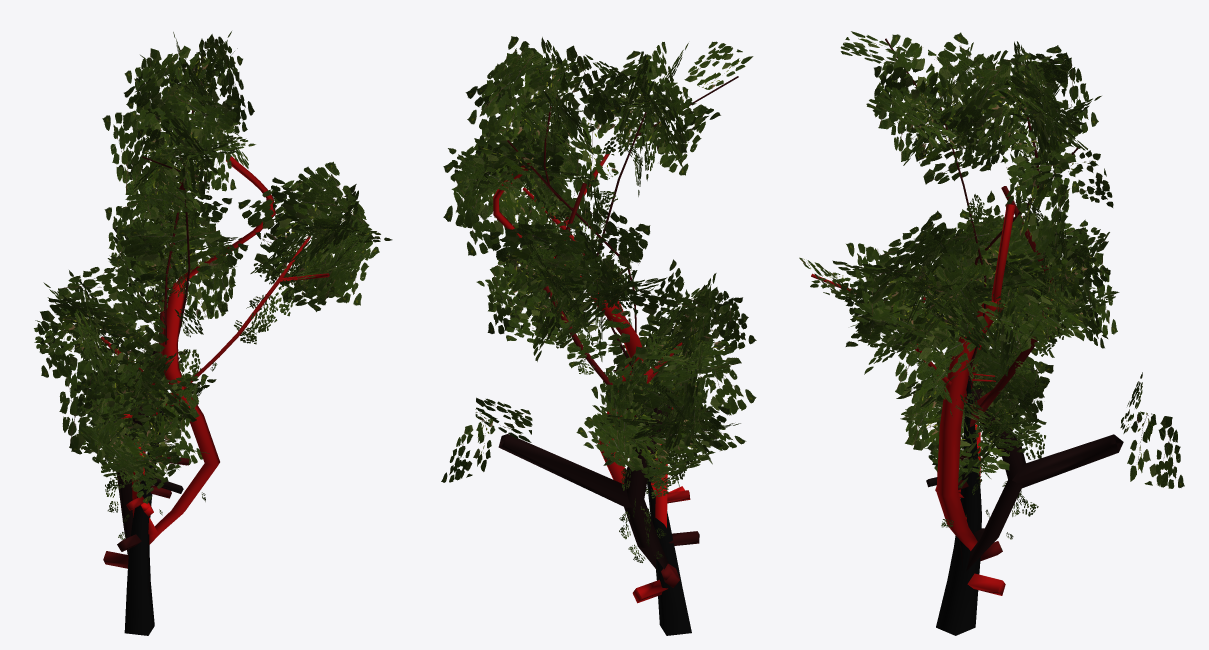
Rendered from Tree_1.fbx.
The picture shows the model from 3 angles, left to right: view 1: azimuth 30°, elevation 25°; view 2: azimuth 150°, elevation 25°; view 3: azimuth 270°, elevation 25°; orthographic projection. The views are drawn at different scales.
Parts seen in each view (by area): view 1: Tree_14; view 2: Tree_14; view 3: Tree_14.
Part boxes in pixels (x1,y1,x2,y2): Tree_14: [34, 31, 392, 635]; Tree_14: [441, 36, 756, 635]; Tree_14: [799, 31, 1184, 635].
Bounding box in the file's own units: 338 × 539 × 306.
